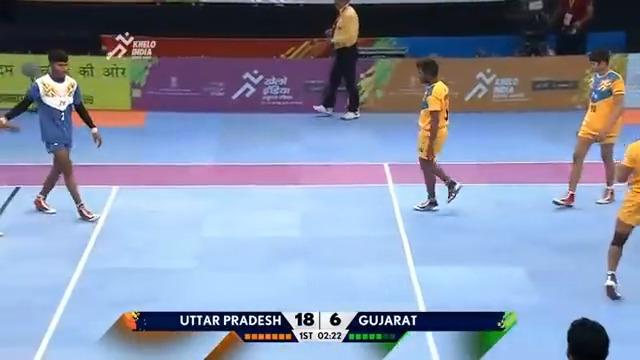Player: (0, 47, 102, 222), (551, 47, 625, 207), (411, 57, 462, 211), (603, 138, 639, 301)
referee: (311, 0, 361, 120), (502, 0, 555, 56)
